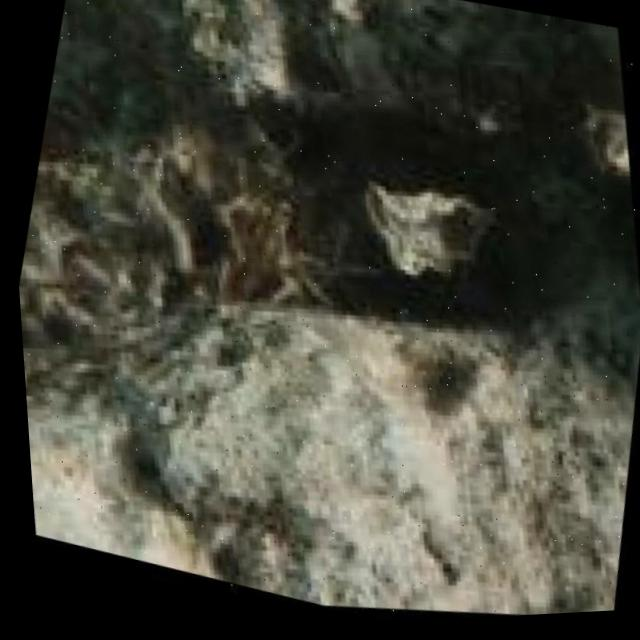Dead Coral: (3, 51, 384, 478)
